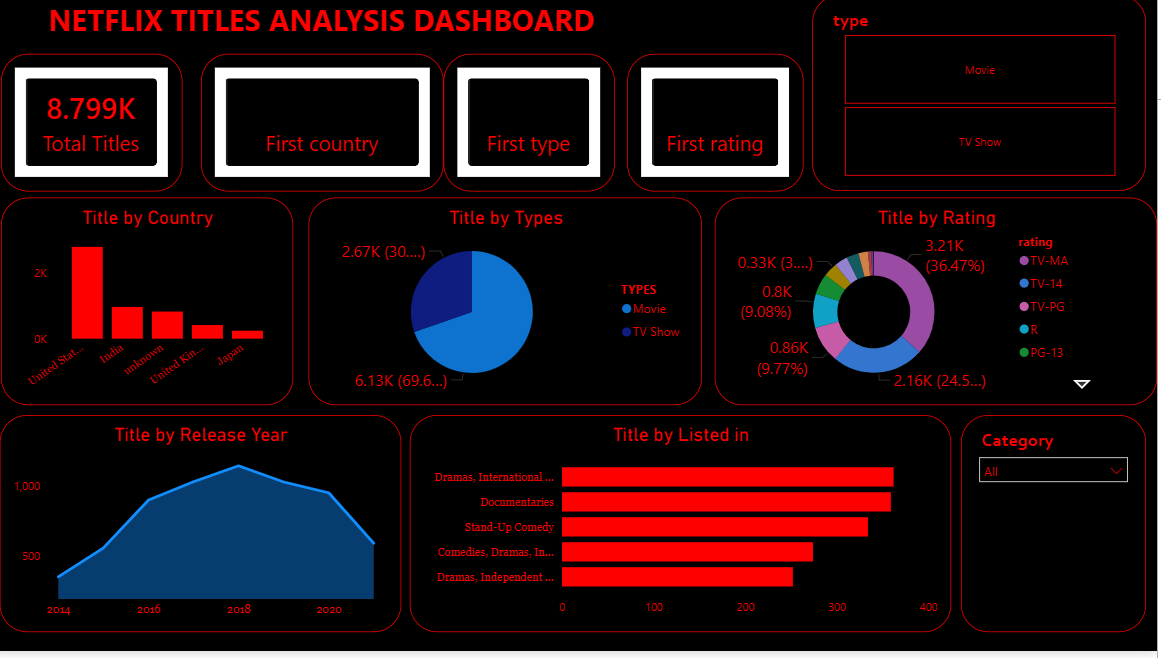

Layout of this report page (visuals, bound fields, positions):
{"tool":"powerbi","page":{"name":"Page 1","canvas":[1280,720],"ordinal":0},"visuals":[{"type":"textbox","box":[9.6,0,706.7,64.5],"z":0},{"type":"cardVisual","fields":{"Data":["netflix_clean.Total Titles"]},"box":[11,64.5,199,150.9],"z":1000},{"type":"cardVisual","fields":{"Data":["Min(netflix_clean.rating)"]},"box":[698.5,64.5,193.5,150.9],"z":2000},{"type":"cardVisual","fields":{"Data":["Min(netflix_clean.country)"]},"box":[230.5,64.5,266.2,150.9],"z":3000},{"type":"cardVisual","fields":{"Data":["Min(netflix_clean.type)"]},"box":[496.7,64.5,188,150.9],"z":4000},{"type":"columnChart","title":"Title by Country","fields":{"Category":["netflix_clean.country"],"Y":["CountNonNull(netflix_clean.title)"]},"box":[11,222.3,321.1,227.8],"z":5000},{"type":"stackedAreaChart","title":"Title by Release Year","fields":{"Category":["netflix_clean.release_year"],"Y":["CountNonNull(netflix_clean.title)"]},"box":[9.6,461.1,440.5,238.8],"z":6000},{"type":"pieChart","title":" Title by Types","fields":{"Y":["CountNonNull(netflix_clean.title)"],"Category":["netflix_clean.type"]},"box":[348.5,222.3,432.2,227.8],"z":7000},{"type":"barChart","title":" Title by Listed in","fields":{"Category":["netflix_clean.listed_in"],"Y":["CountNonNull(netflix_clean.title)"]},"box":[459.7,461.1,594.2,238.8],"z":8000},{"type":"donutChart","title":"Title by Rating","fields":{"Y":["CountNonNull(netflix_clean.title)"],"Category":["netflix_clean.rating"]},"box":[794.5,222.3,485.8,227.8],"z":9000},{"type":"slicer","fields":{"Values":["netflix_clean.listed_in"]},"box":[1064.8,461.1,203.1,238.8],"z":10000},{"type":"slicer","fields":{"Values":["netflix_clean.type"]},"box":[901.5,0,366.4,215.4],"z":11000}]}

Visuals, with their boxes in screenshot pixels (x1, y1, x2, y2), scaled from the page's 1280x720 canvas onto the 1161x658 screenshot:
textbox: {"x1": 9, "y1": 0, "x2": 650, "y2": 59}
cardVisual - netflix_clean.Total Titles: {"x1": 10, "y1": 59, "x2": 190, "y2": 197}
cardVisual - Min(netflix_clean.rating): {"x1": 634, "y1": 59, "x2": 809, "y2": 197}
cardVisual - Min(netflix_clean.country): {"x1": 209, "y1": 59, "x2": 451, "y2": 197}
cardVisual - Min(netflix_clean.type): {"x1": 451, "y1": 59, "x2": 621, "y2": 197}
"Title by Country" columnChart: {"x1": 10, "y1": 203, "x2": 301, "y2": 411}
"Title by Release Year" stackedAreaChart: {"x1": 9, "y1": 421, "x2": 408, "y2": 640}
" Title by Types" pieChart: {"x1": 316, "y1": 203, "x2": 708, "y2": 411}
" Title by Listed in" barChart: {"x1": 417, "y1": 421, "x2": 956, "y2": 640}
"Title by Rating" donutChart: {"x1": 721, "y1": 203, "x2": 1160, "y2": 411}
slicer - netflix_clean.listed_in: {"x1": 966, "y1": 421, "x2": 1150, "y2": 640}
slicer - netflix_clean.type: {"x1": 818, "y1": 0, "x2": 1150, "y2": 197}
